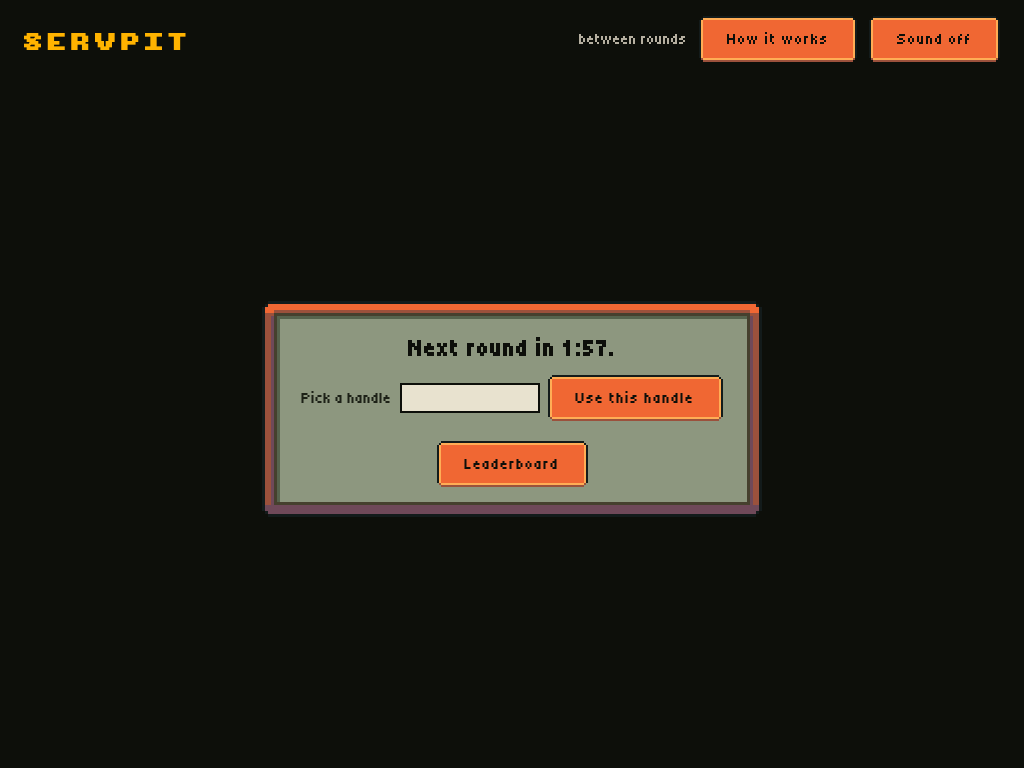
Scenario: choosing a handle › says what is wrong with a name that is not one, without asking the pit
The image size is (1024, 768).
Type "no" into the field labelled "Pick a handle" at {"x": 470, "y": 398}, box [400,383,540,413]
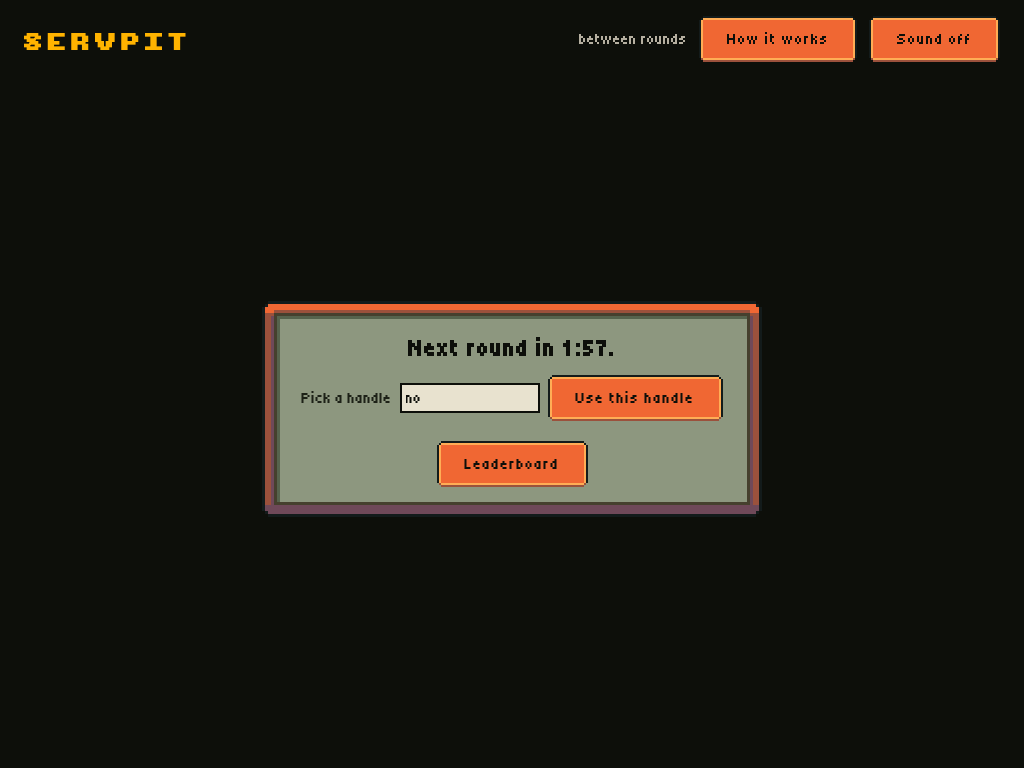
Click the button "Use this handle" at {"x": 635, "y": 398}, box [548,375,722,421]
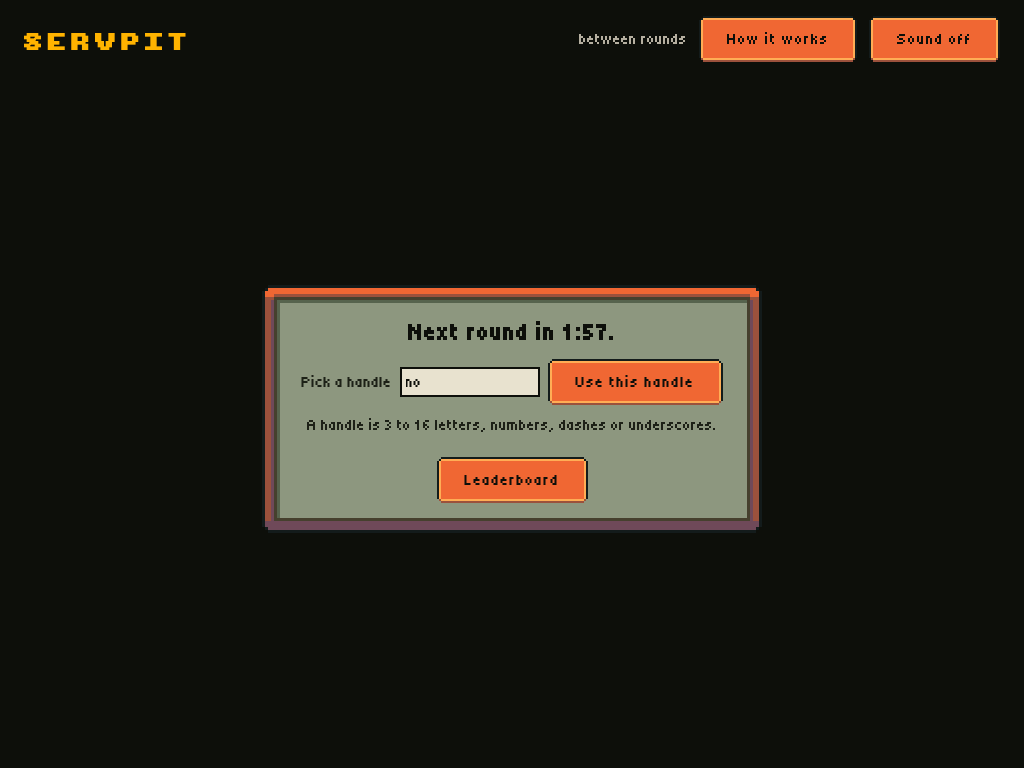
Expected: the text "3 to 16" is shown, [307,416,717,434]
